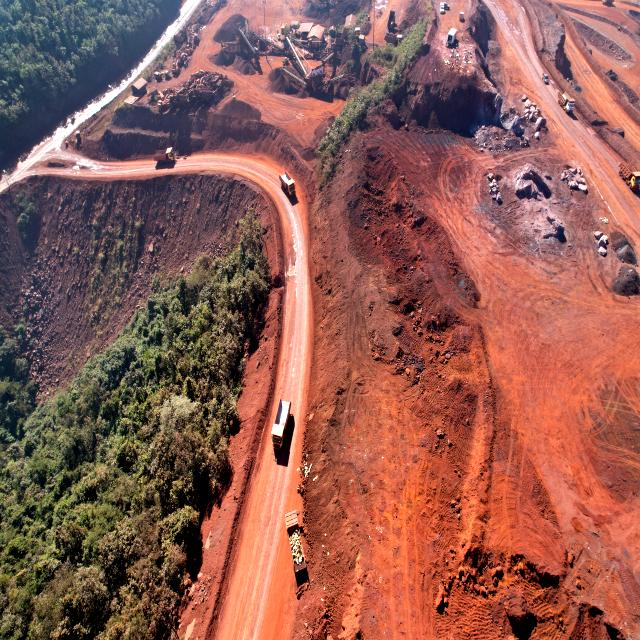Dumper truck: (283, 512, 308, 572), (271, 396, 291, 448), (620, 159, 640, 192), (281, 170, 298, 198), (156, 146, 174, 166), (560, 91, 576, 113), (386, 5, 398, 28), (386, 32, 402, 45), (602, 0, 616, 5)
car: (543, 72, 550, 86), (443, 2, 450, 10), (440, 2, 444, 15)
person: (452, 48, 454, 54), (462, 33, 464, 39), (452, 65, 454, 70), (442, 38, 444, 43)
